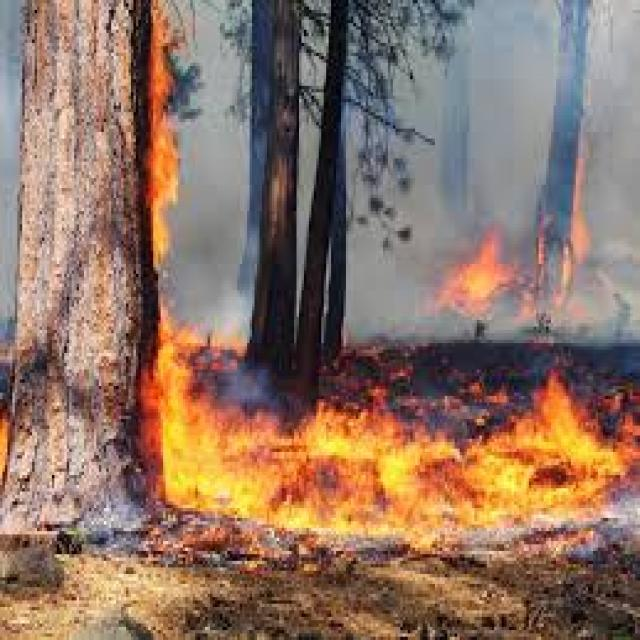Fire: (147, 386, 640, 564), (146, 4, 188, 504), (449, 206, 522, 321)
Smoke: (394, 63, 634, 340), (171, 0, 240, 350)
